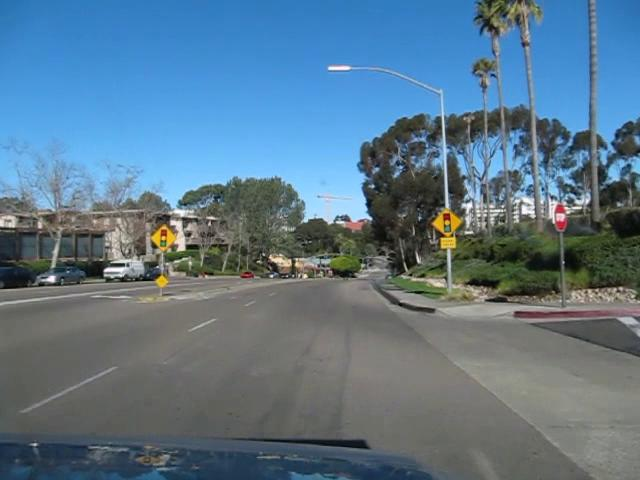signalAhead: (430, 207, 461, 237)
